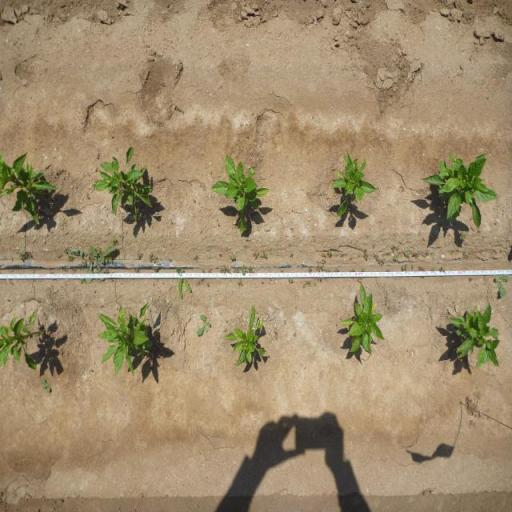plant: (416, 148, 499, 230), (208, 153, 270, 236), (92, 146, 155, 226), (94, 299, 153, 379), (0, 149, 58, 228), (446, 302, 502, 369), (340, 282, 388, 356), (328, 149, 378, 219), (0, 307, 47, 372), (222, 304, 266, 368)
weed: (66, 243, 118, 284), (176, 264, 192, 298), (492, 274, 512, 296), (196, 313, 211, 337), (13, 249, 35, 261), (40, 376, 52, 394), (146, 252, 159, 262), (218, 264, 231, 274), (374, 254, 386, 264), (301, 279, 311, 289), (314, 264, 326, 272), (362, 248, 369, 261), (104, 255, 115, 263), (196, 278, 206, 286), (236, 278, 244, 288), (240, 264, 248, 274), (250, 251, 260, 259), (80, 258, 92, 264), (460, 232, 467, 242), (152, 266, 160, 274), (462, 250, 470, 258), (193, 254, 199, 264), (110, 238, 117, 246), (260, 251, 268, 258), (400, 264, 408, 271), (273, 330, 278, 341), (79, 278, 86, 285), (136, 252, 144, 258), (232, 267, 240, 273), (392, 254, 398, 262), (413, 253, 421, 259), (230, 254, 236, 261), (248, 265, 254, 272), (360, 266, 367, 272), (438, 265, 444, 272), (348, 268, 356, 273), (288, 278, 294, 284), (307, 266, 313, 272), (327, 251, 333, 257), (418, 266, 424, 272), (430, 251, 434, 259), (403, 250, 408, 256), (104, 268, 108, 274), (322, 258, 326, 264), (326, 268, 332, 272), (391, 245, 395, 251), (67, 256, 72, 260), (313, 282, 317, 287)
